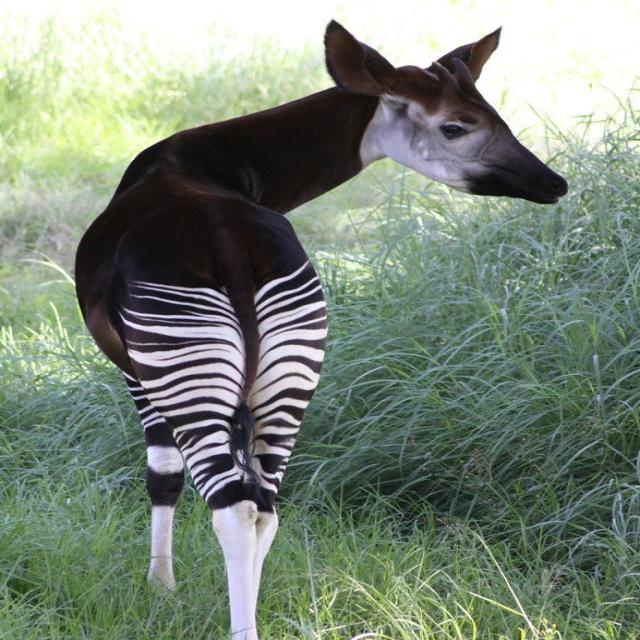Okapi: (60, 8, 580, 640)
